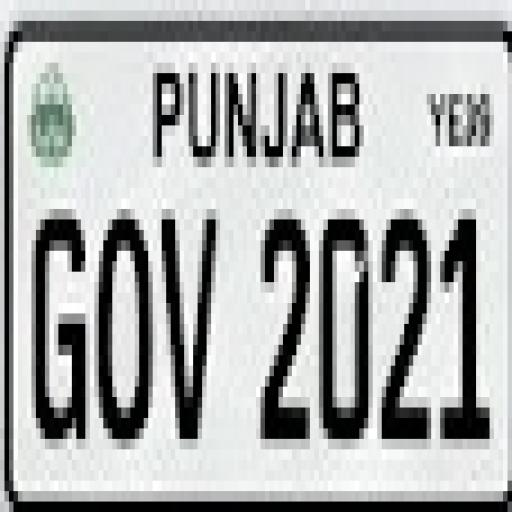0: (318, 205, 376, 448)
1: (438, 205, 492, 445)
2: (254, 204, 312, 438), (382, 216, 433, 444)
G: (34, 193, 92, 458)
O: (98, 215, 152, 441)
V: (161, 190, 218, 426)
